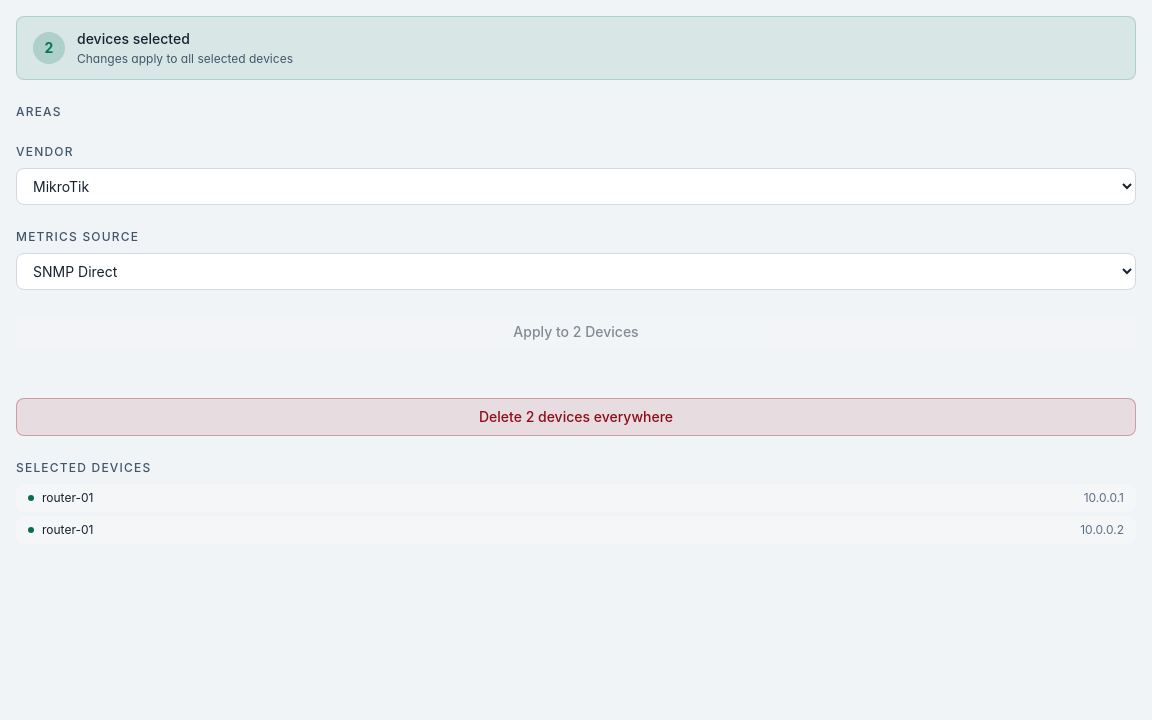
Test case: BulkEditPanel — outer catch handles typed errors for multiple devices › collects per-device ServerError refs and shows combined error message
Select "-- Select vendor --" in the dropdown showing "MikroTik" below "Vendor" at (576, 186), box [16,168,1136,205]
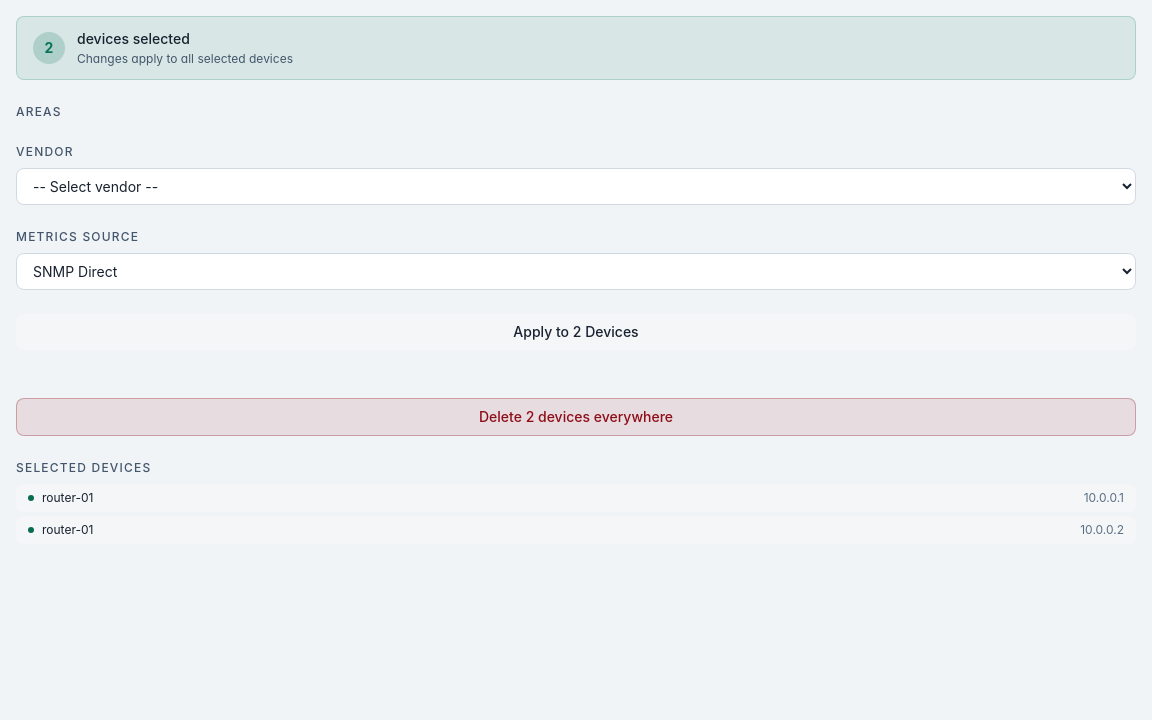
Click the button "Apply to 2 Devices".
click(576, 332)  # box [16,314,1136,350]
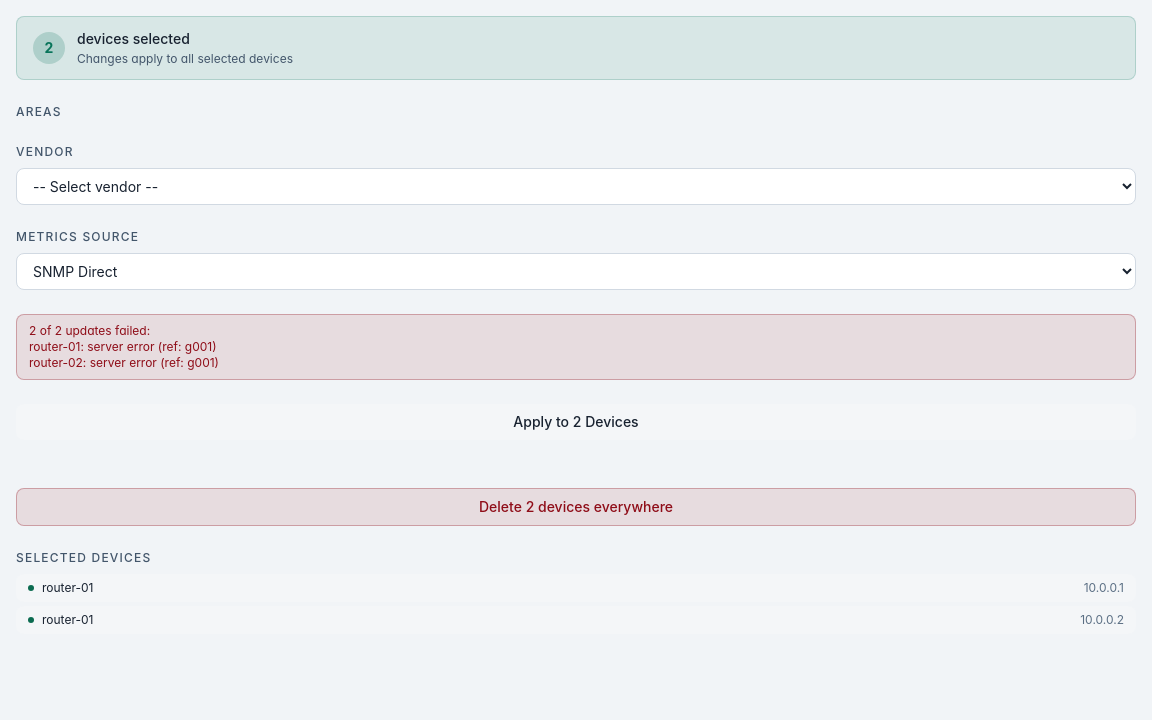
Result: the text "server error (ref: g001)" is shown at [29,323,219,370]
